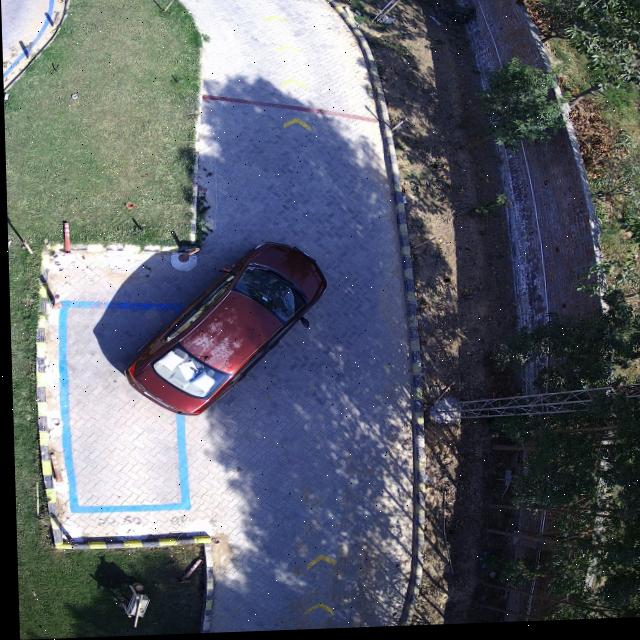car: (123, 244, 325, 419)
